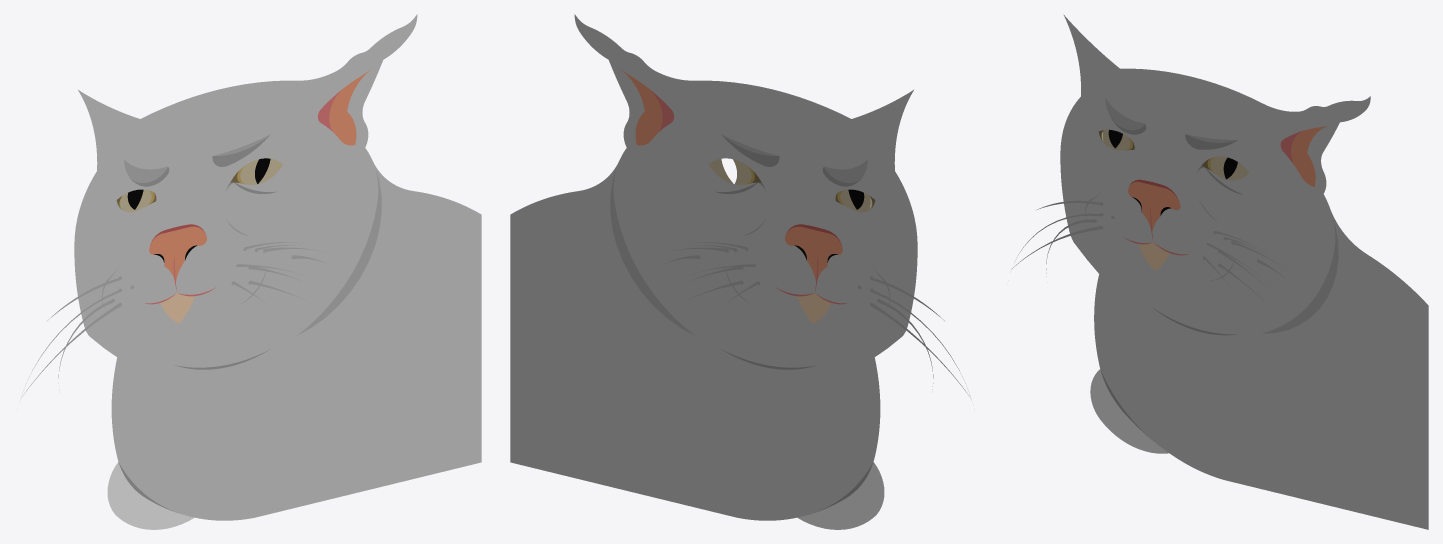
3 renders of one model, left to right at view 1: azimuth 30°, elevation 25°; view 2: azimuth 150°, elevation 25°; view 3: azimuth 330°, elevation 25°, orthographic. The views are drawn at different scales.
Visible parts, largest first — view 1: Layer0_001; view 2: Layer0_001; view 3: Layer0_001.
Boxes of the visible parts, x1=… form: Layer0_001: x1=21, y1=14, x2=481, y2=529; Layer0_001: x1=510, y1=14, x2=970, y2=529; Layer0_001: x1=1011, y1=14, x2=1428, y2=529.
Size of the model in its own units: 669 by 645 by 1.46e-12.
